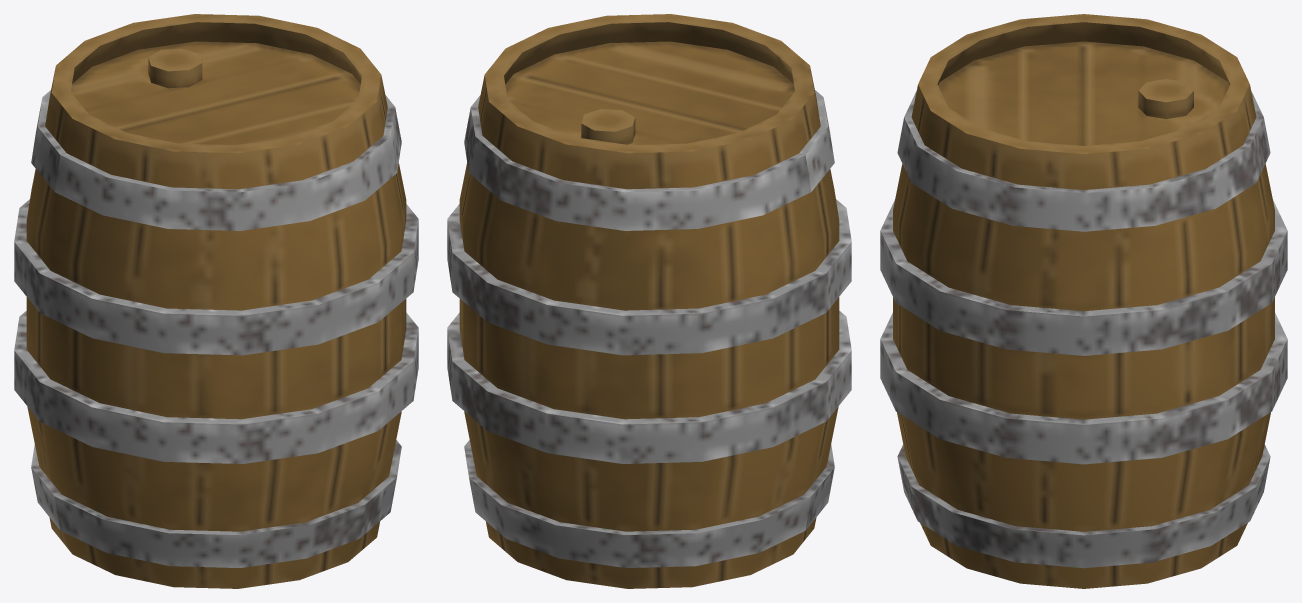
File: BARREL_2.fbx
3 renders of one model, left to right at view 1: azimuth 30°, elevation 25°; view 2: azimuth 150°, elevation 25°; view 3: azimuth 270°, elevation 25°, orthographic.
Parts seen in each view (by area): view 1: BARREL_2_low; view 2: BARREL_2_low; view 3: BARREL_2_low.
Boxes of the visible parts, x1,y1,x2,y2 form: BARREL_2_low: (14,14,418,588); BARREL_2_low: (447,14,851,588); BARREL_2_low: (880,14,1287,588).
Bounding box in the file's own units: 52.32 × 61.63 × 52.32.
